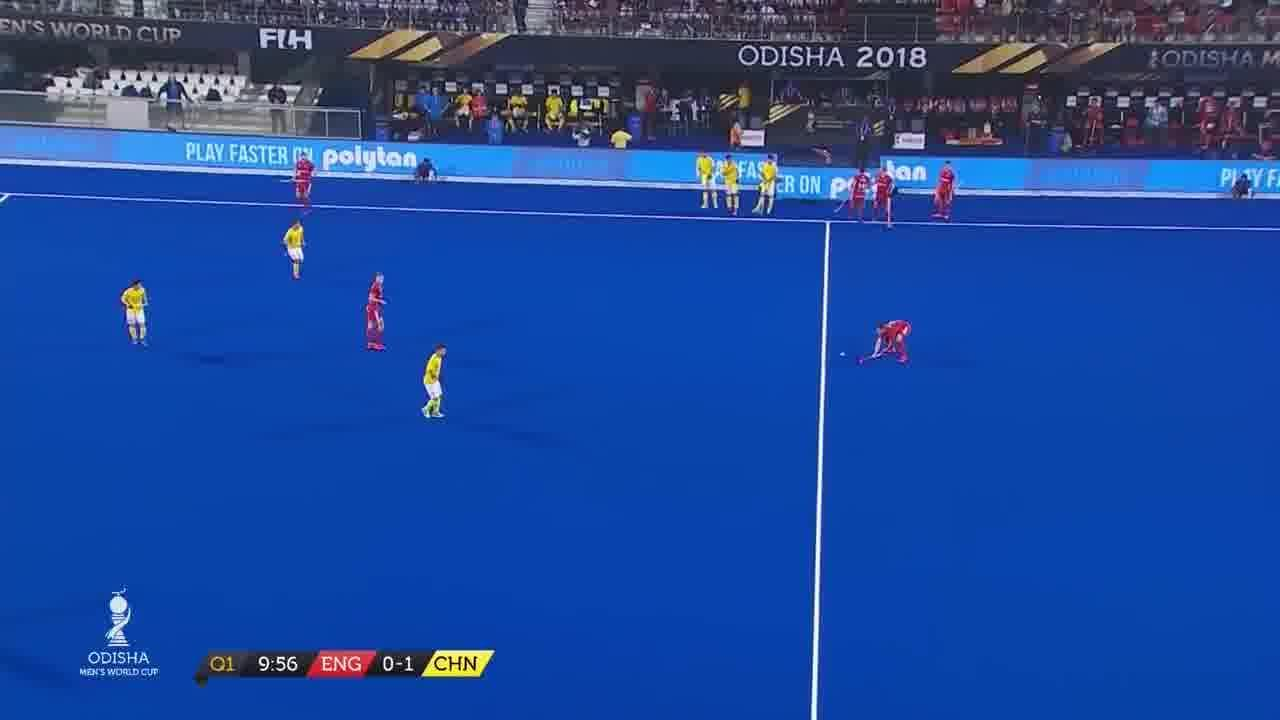ball: (839, 347, 850, 361)
